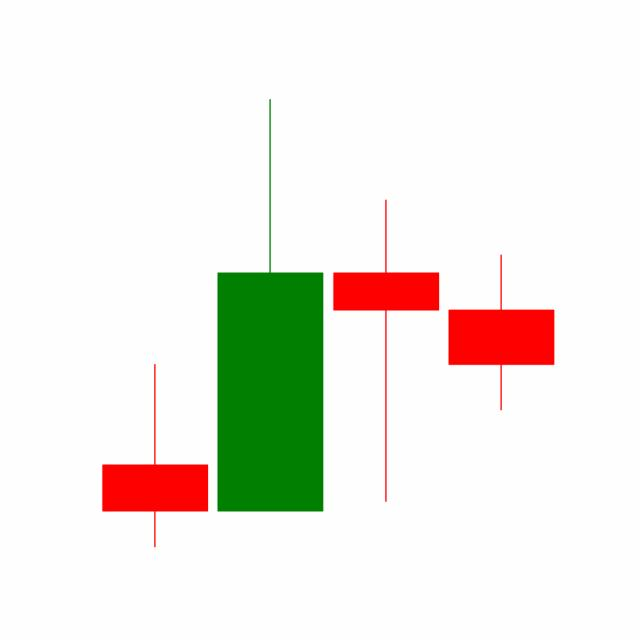Spinning Top: (328, 196, 444, 504)
